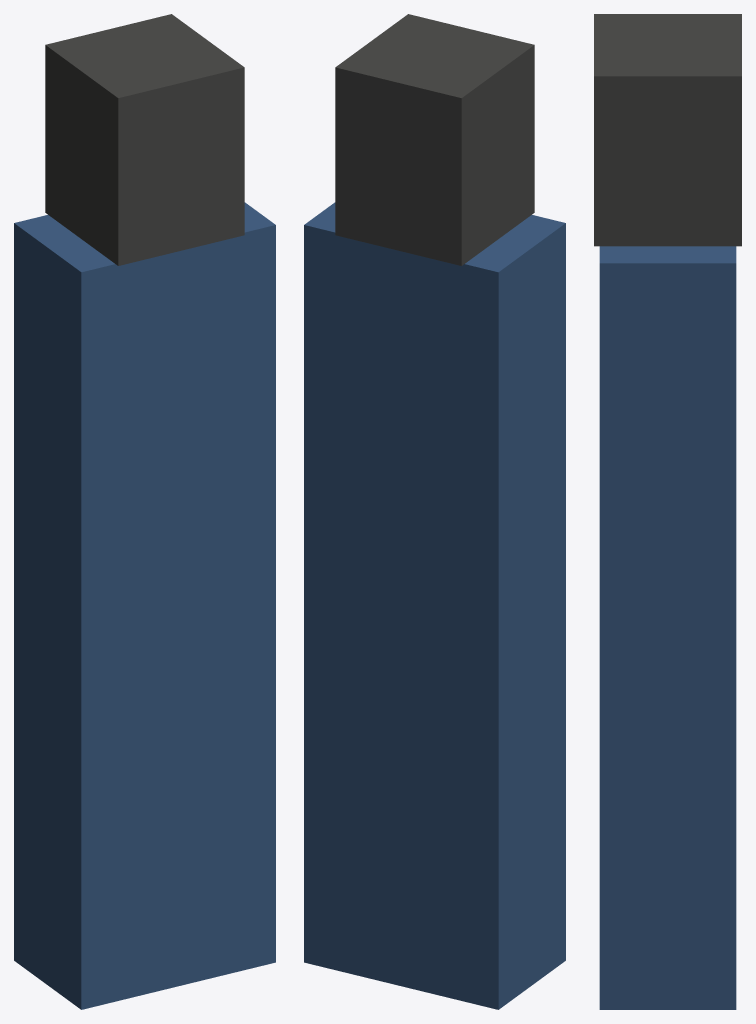
The model's file is life_person_e_far.glb.
The picture shows the model from 3 angles, left to right: view 1: azimuth 30°, elevation 25°; view 2: azimuth 150°, elevation 25°; view 3: azimuth 270°, elevation 25°; orthographic projection.
Visible parts, largest first — view 1: life_person_e_far; view 2: life_person_e_far; view 3: life_person_e_far.
Boxes of the visible parts, x1,y1,x2,y2 form: life_person_e_far: [14, 14, 275, 1009]; life_person_e_far: [304, 14, 565, 1009]; life_person_e_far: [594, 14, 741, 1009].
Bounding box in the file's own units: 0.4 × 1.78 × 0.26.
